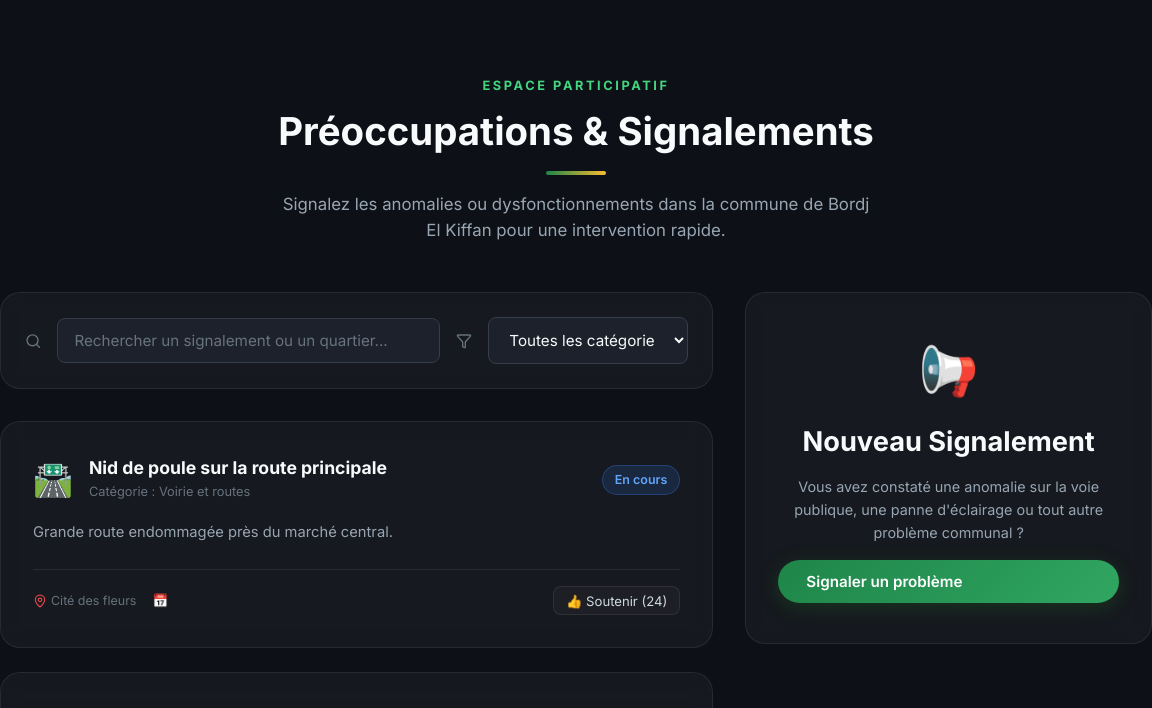
Signalements › shows empty state when no results
Expected: the heading "Nid de poule sur la route principale" is shown, [89, 456, 387, 478]
Type "zzzznotfound" into the field with placeholder "Rechercher un signalement ou un quartier..." at {"x": 249, "y": 341}, box [58, 318, 440, 363]
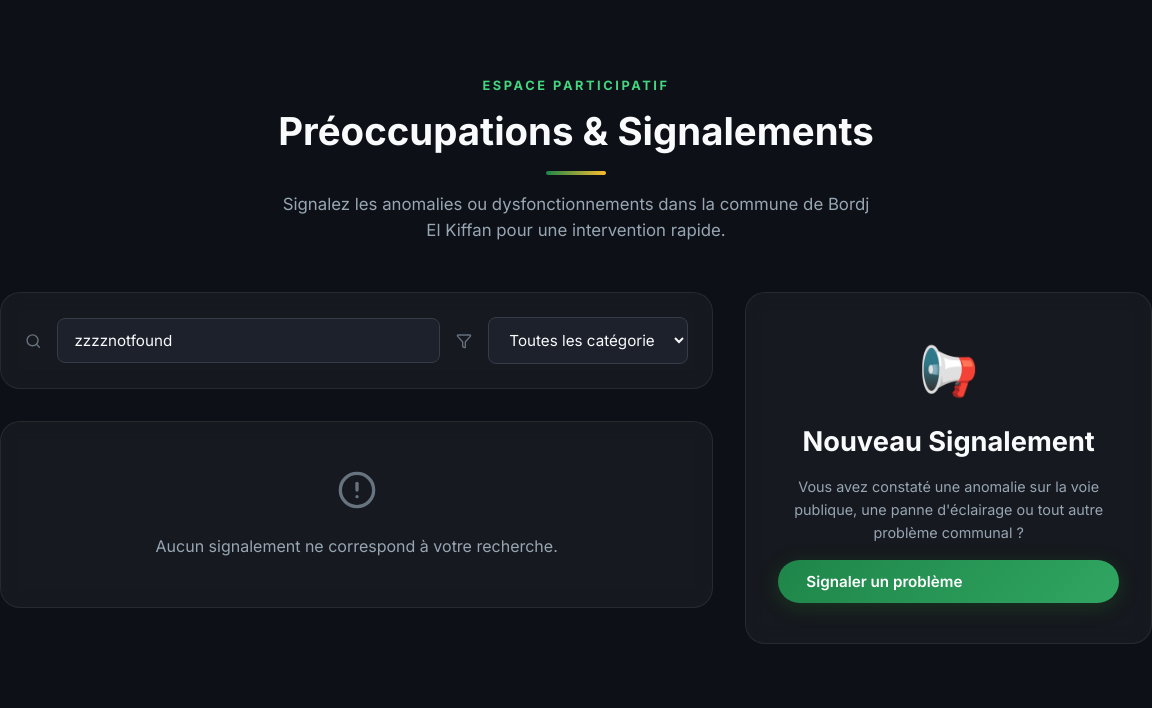
Result: the text "Aucun signalement ne correspond à votre recherche." is shown at [156, 536, 558, 556]
